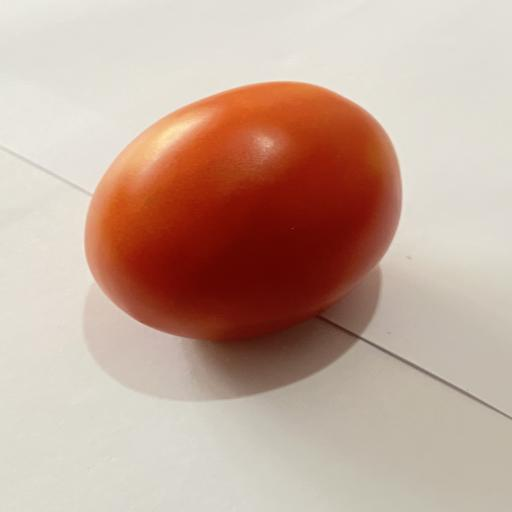ripe: (85, 82, 401, 340)
